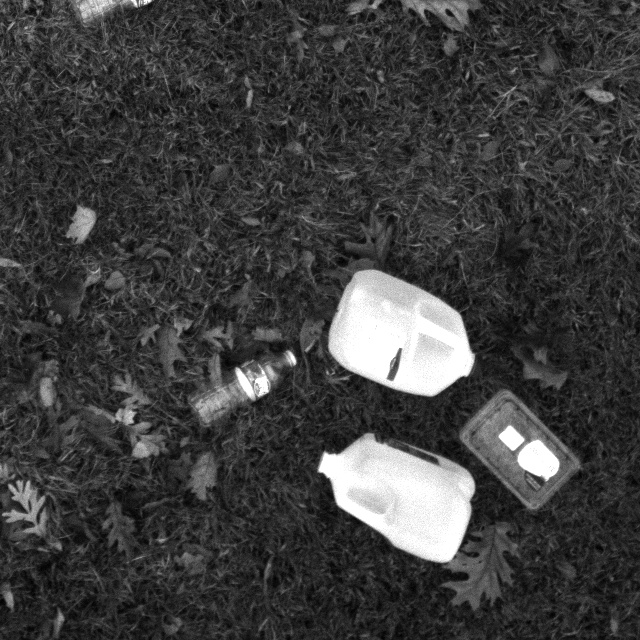bottle: (188, 329, 302, 438)
can: (318, 250, 483, 408), (308, 425, 482, 574)
container: (449, 373, 590, 522)
